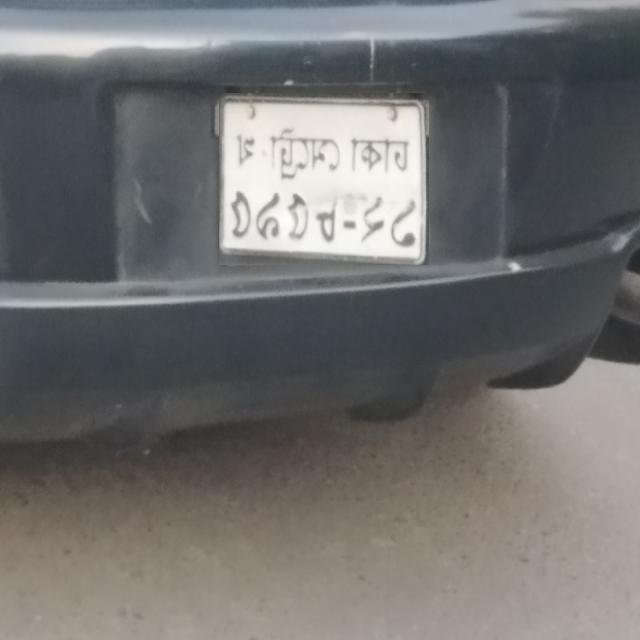numberplate: (219, 93, 429, 265)
